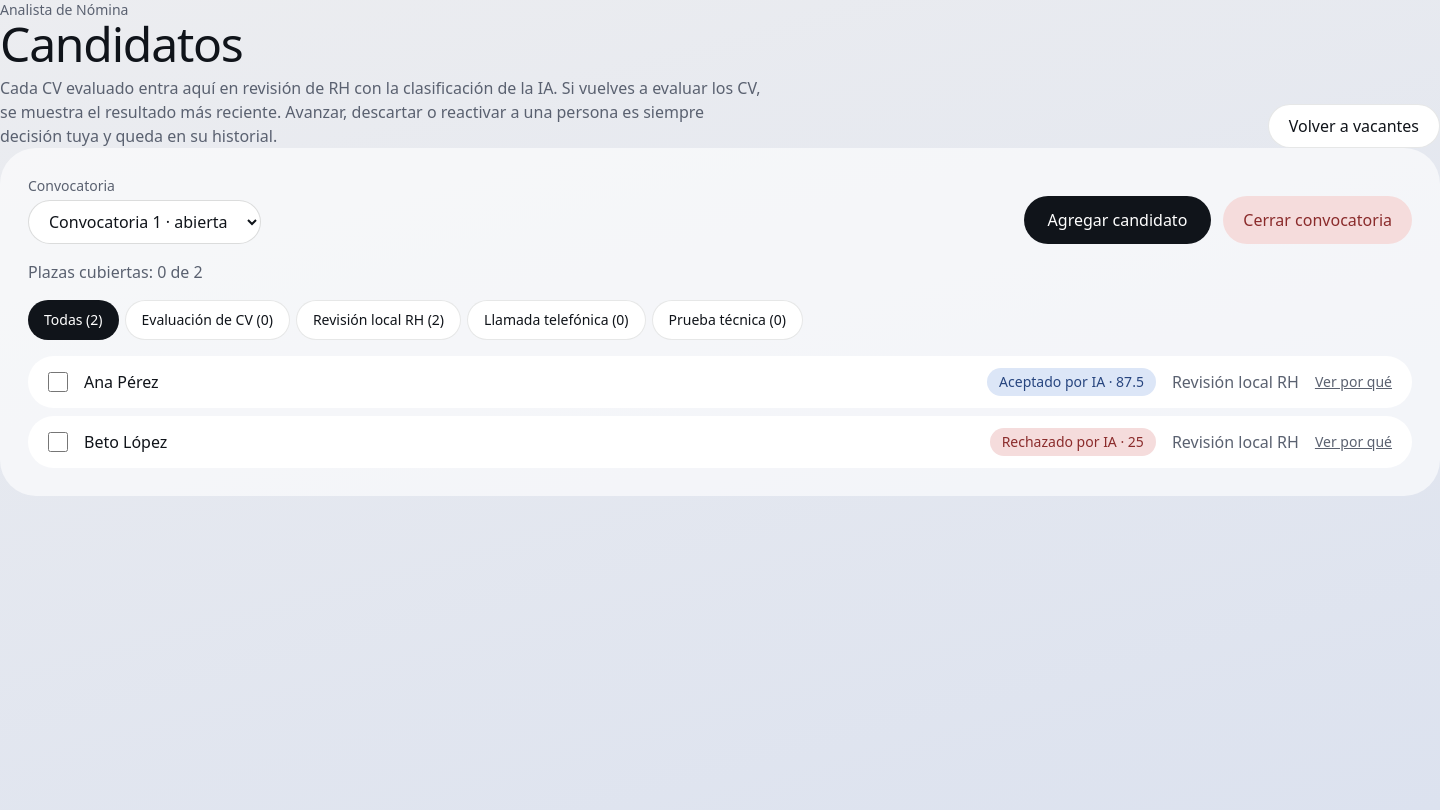
Test: CandidatesWorkspace › mueve a los seleccionados y muestra el motivo cuando el servidor lo exige
Click the checkbox named "Seleccionar a Beto López" at {"x": 58, "y": 442}, box [48,432,68,452]
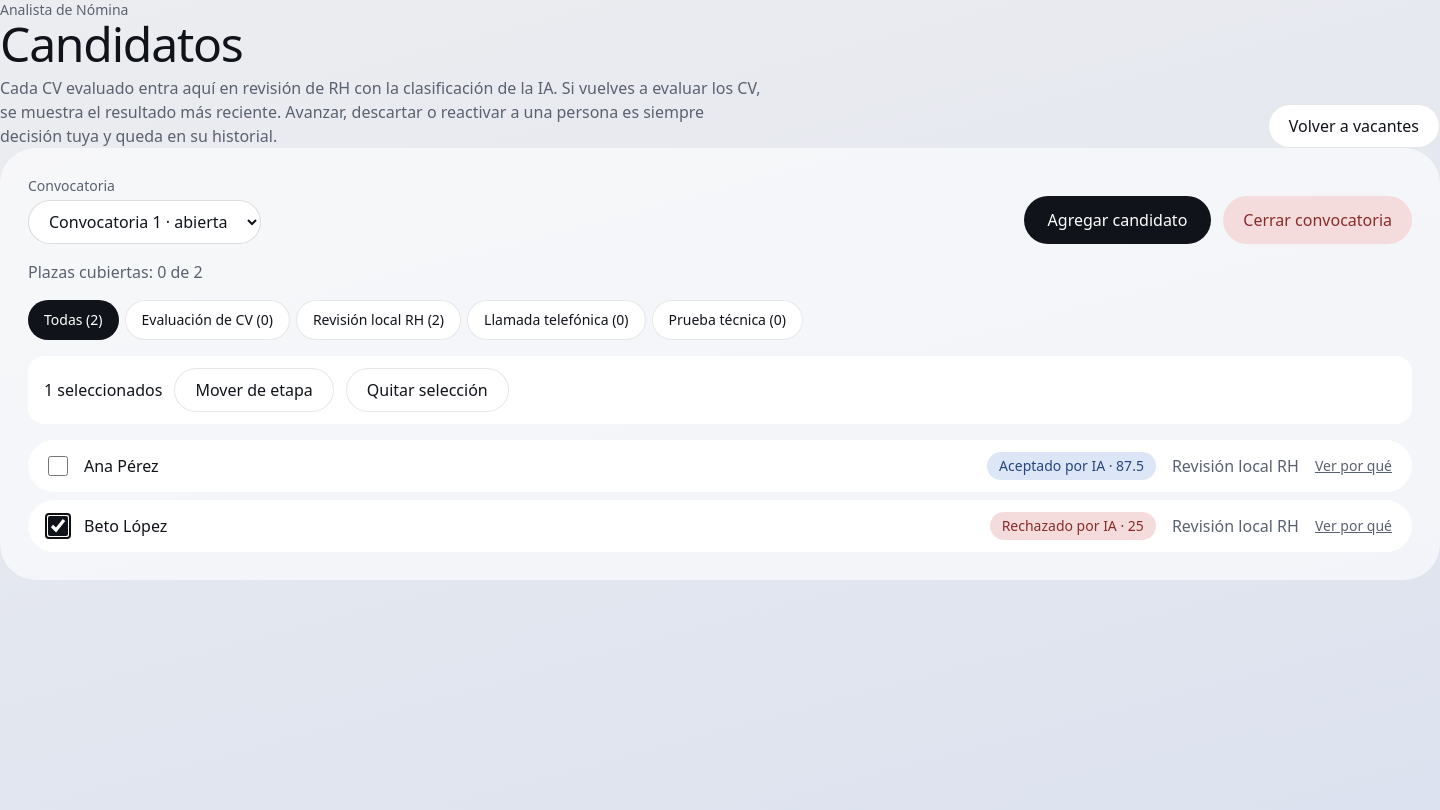
Click the button "Mover de etapa" at {"x": 254, "y": 390}, box [174,368,334,412]
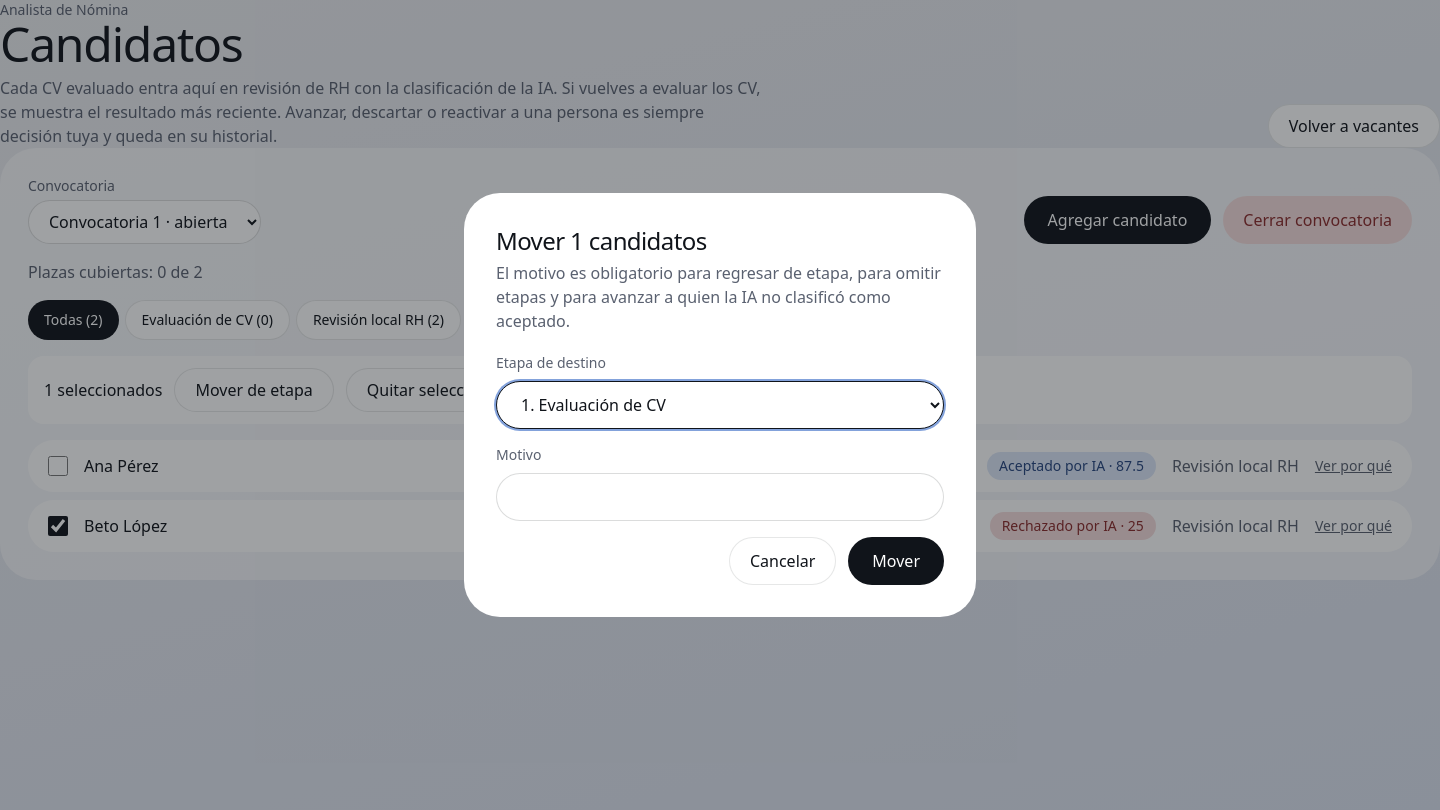
Select "3. Llamada telefónica" in the dropdown labelled "Etapa de destino" at {"x": 720, "y": 405}, box [496,381,944,429]
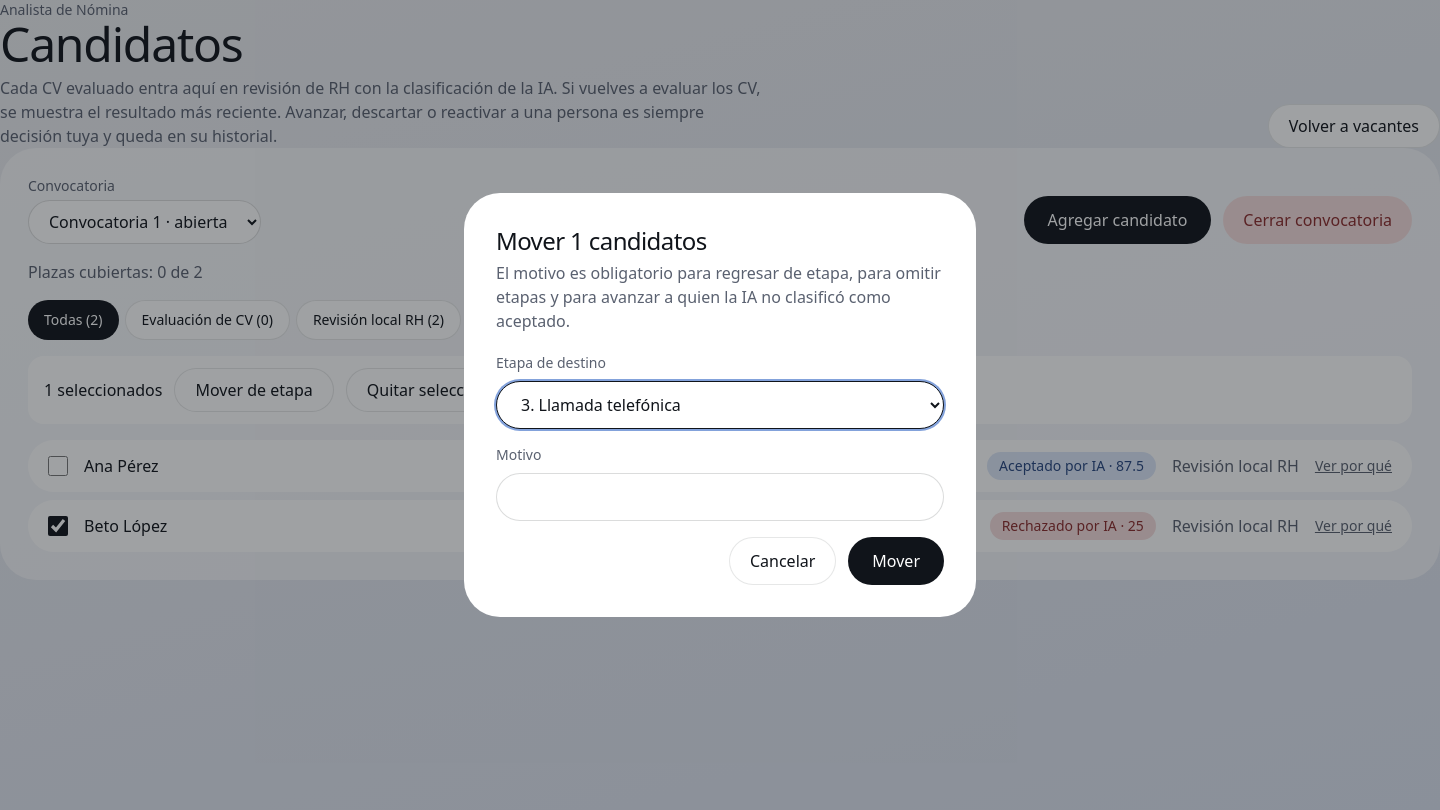
Click the button "Mover" at {"x": 896, "y": 561}, box [848,537,944,585]
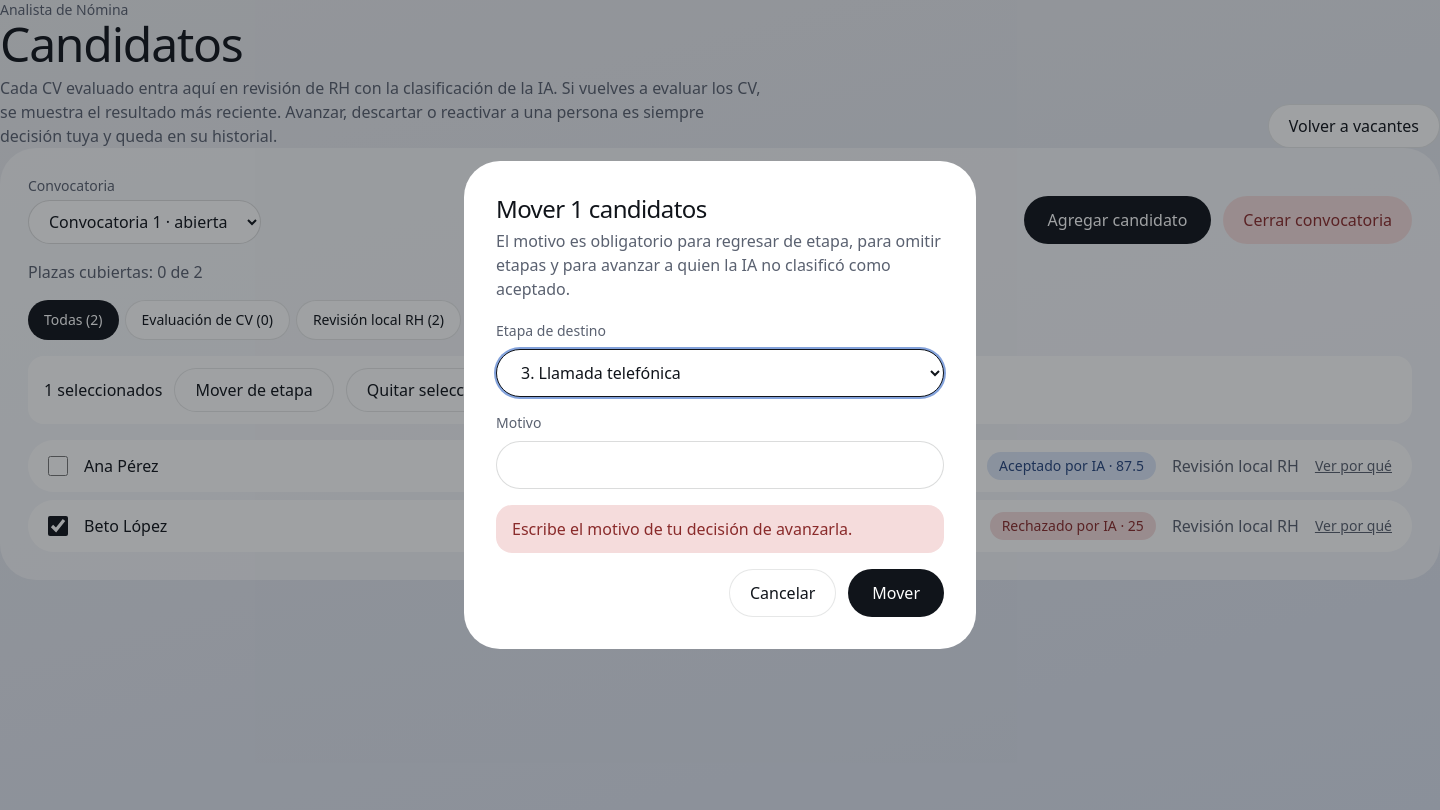
Result: the message shows "motivo de tu decisión" at [512,518,852,540]
Type "Tiene experiencia que la IA no vio" into the field labelled "Motivo" at {"x": 720, "y": 465}, box [496,441,944,489]
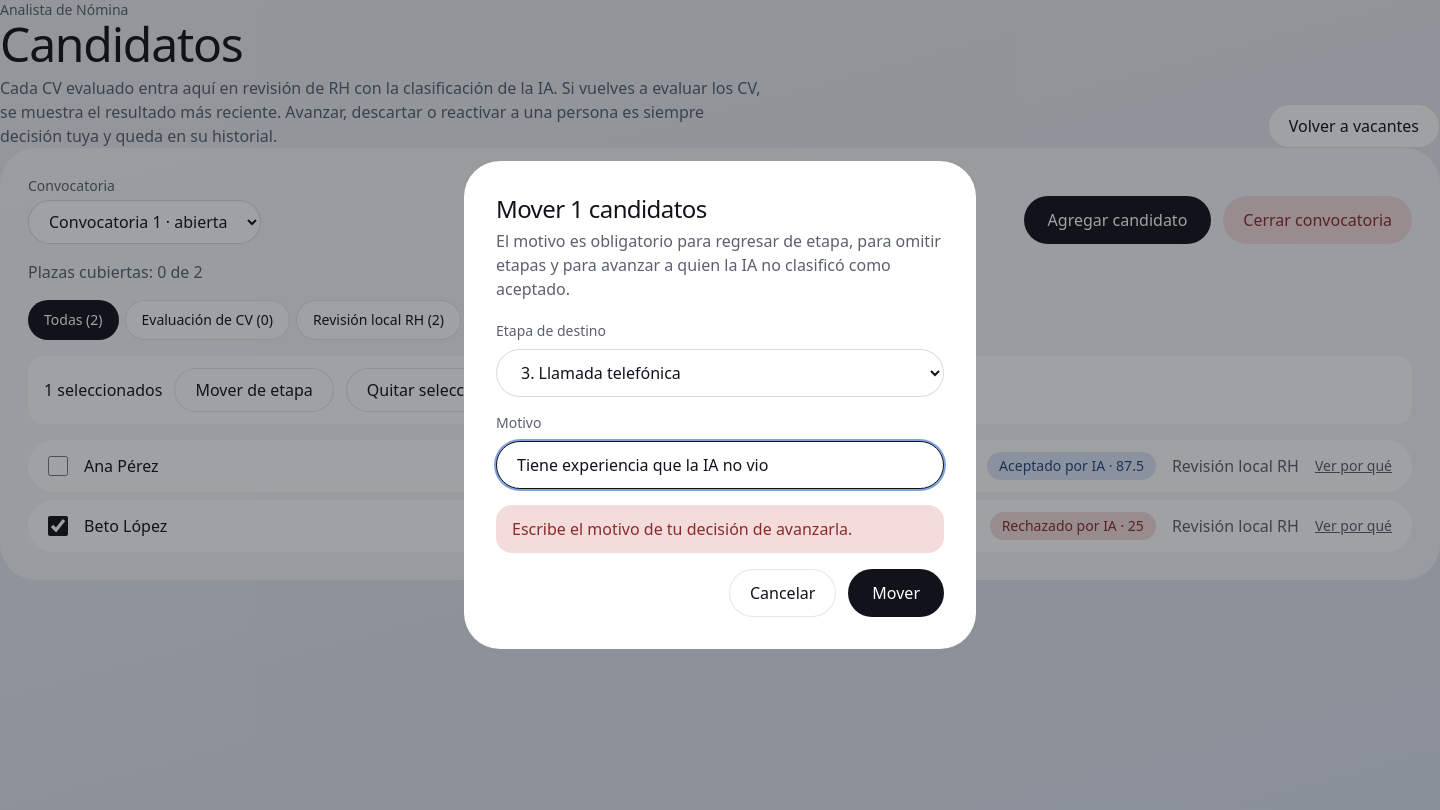
Click the button "Mover" at {"x": 896, "y": 593}, box [848,569,944,617]
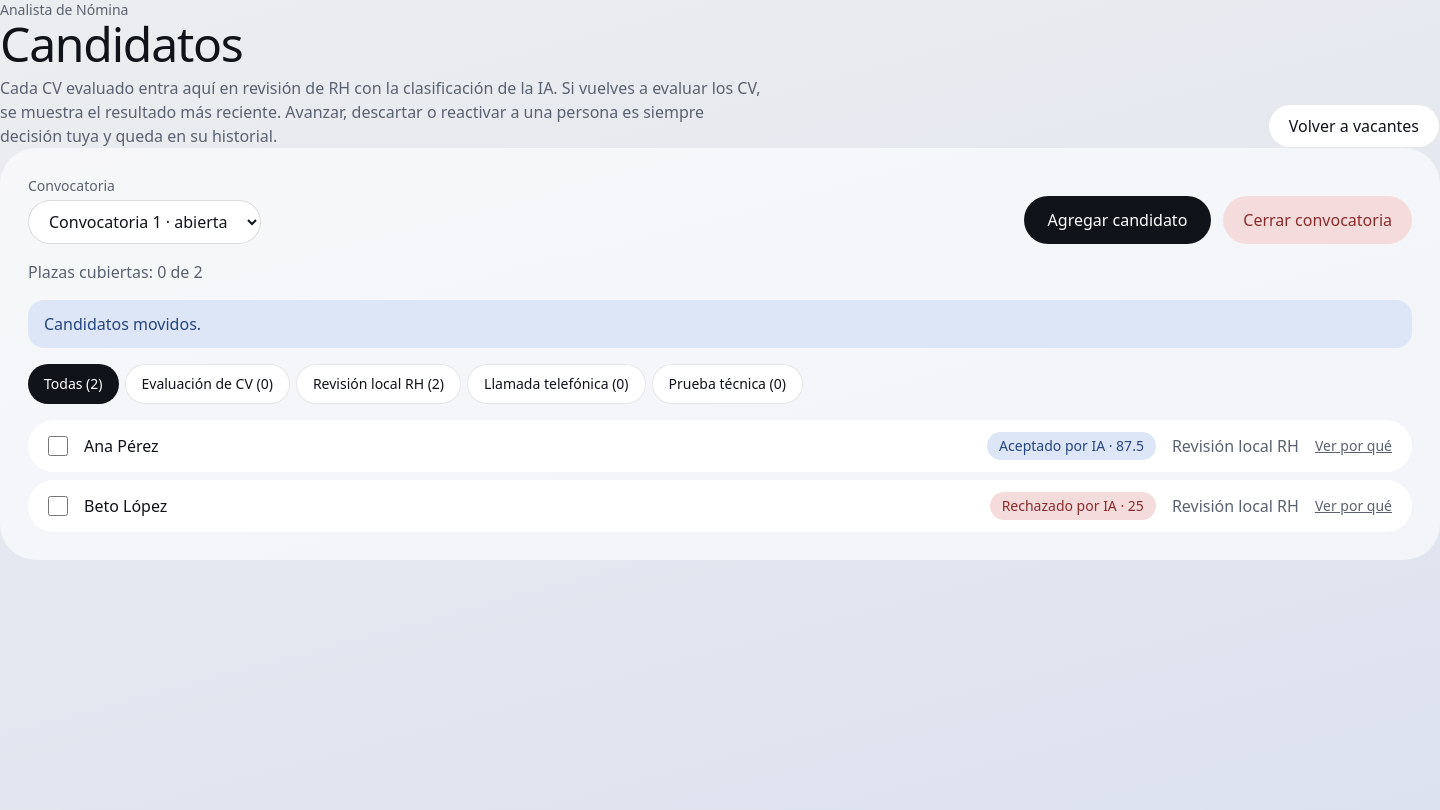
Result: the message shows "Candidatos movidos" at [44,313,201,335]
Result: the dialog is gone
